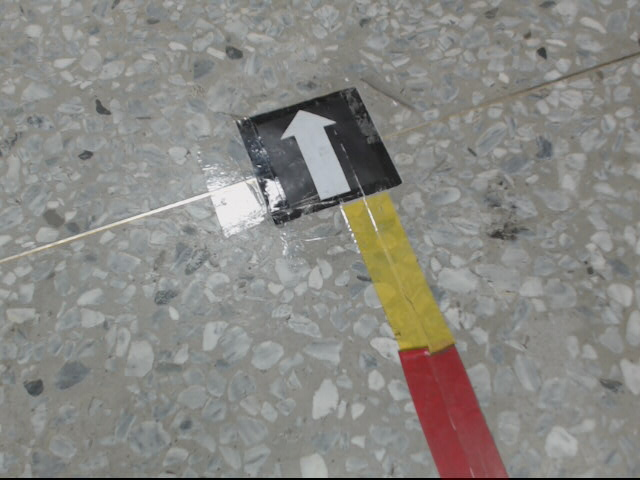straight: (235, 84, 401, 230)
